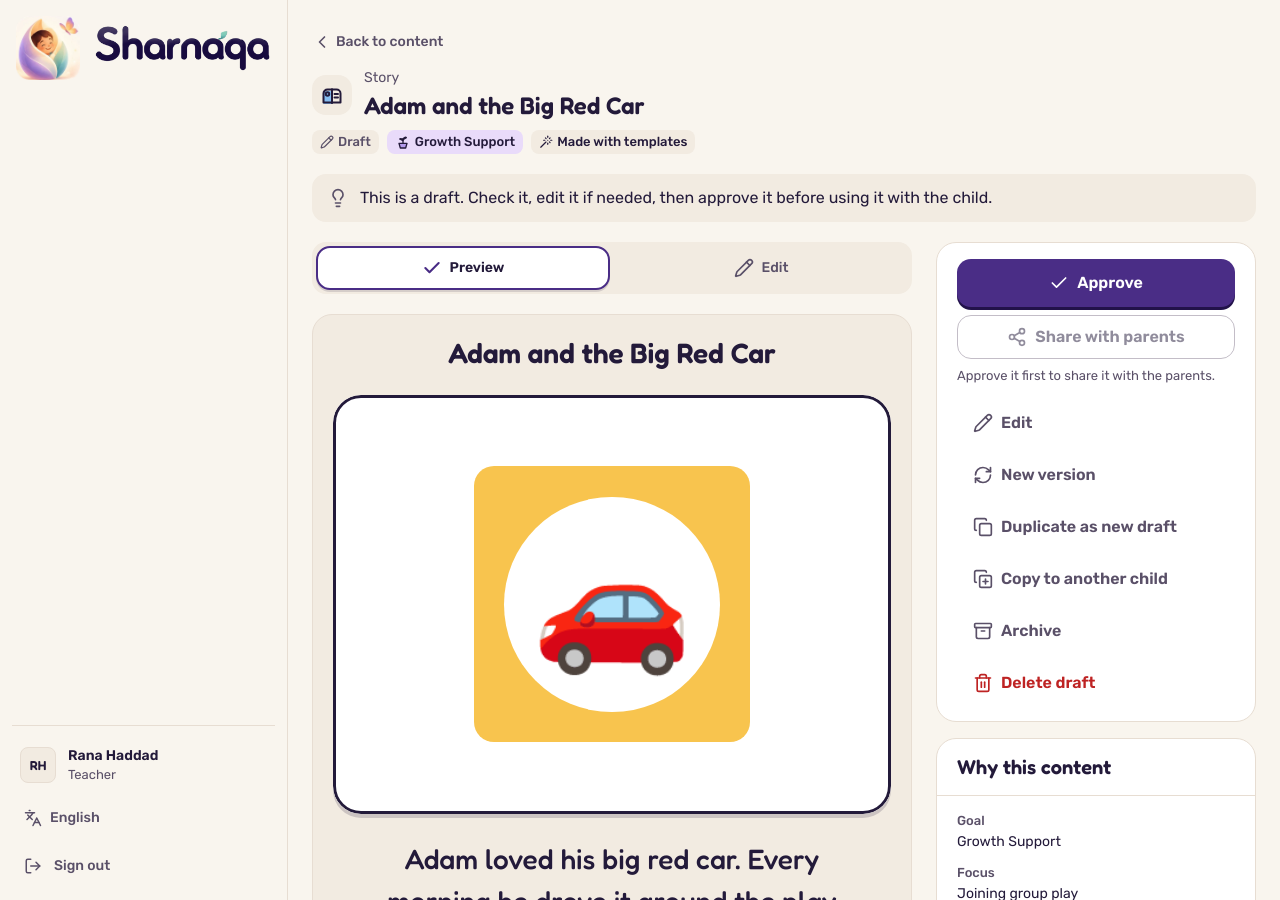
Test case: ContentReviewPage › shows wording problems from the server when saving an edit
Click the tab "Edit".
click(761, 268)  # box [614, 246, 908, 290]
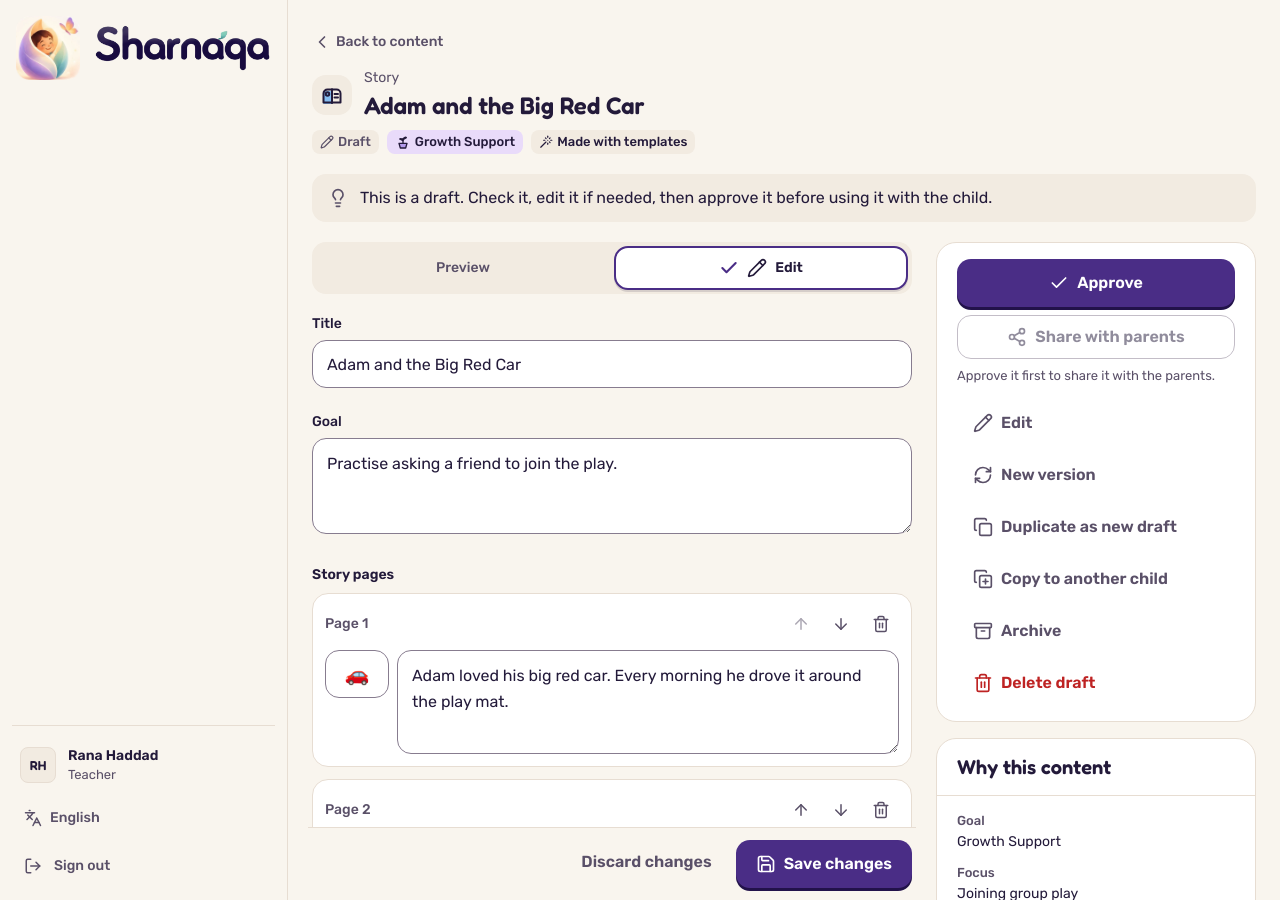
Replace the text in the field labelled "Title" with "A new title" at (612, 364), box [312, 340, 912, 388]
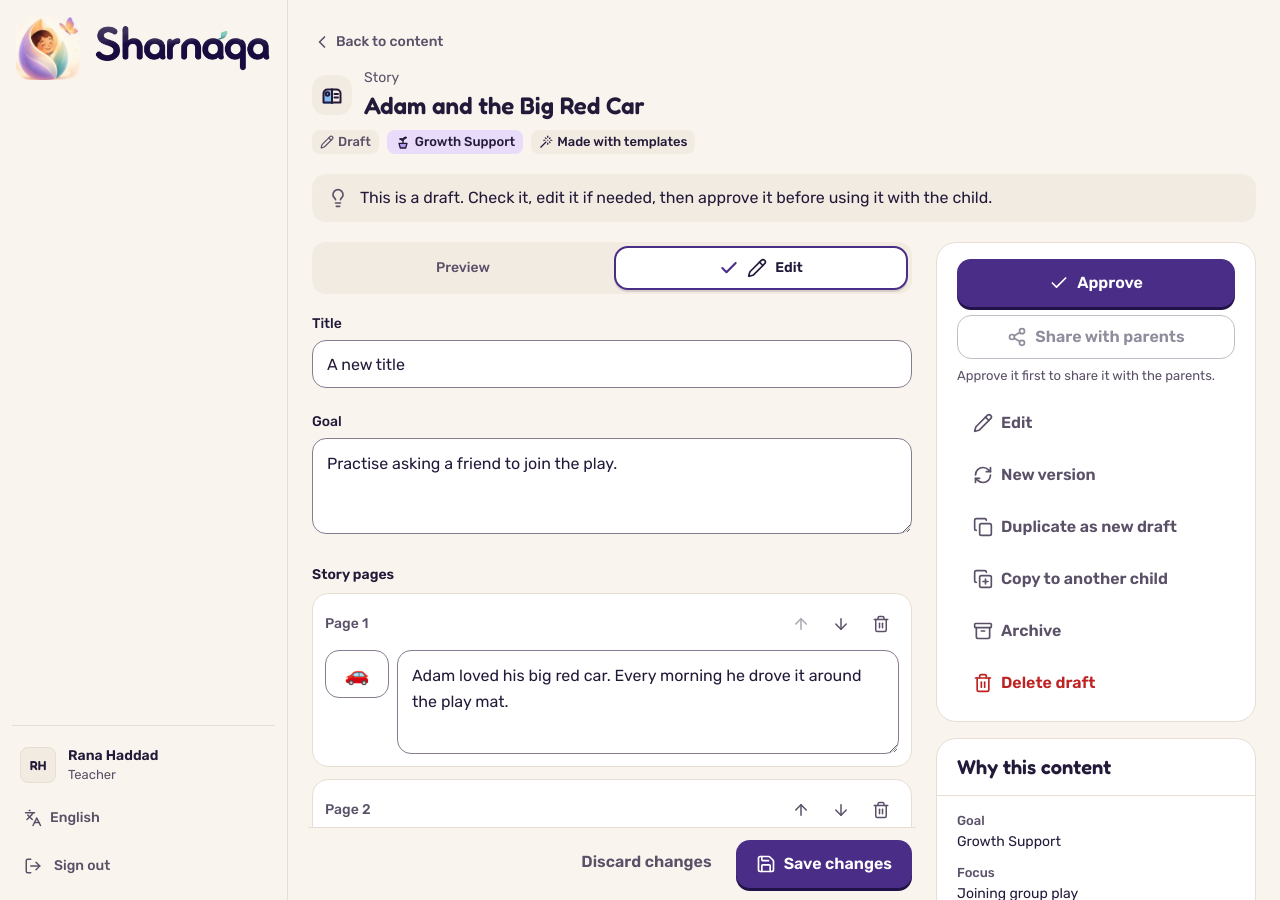
Click the button "Save changes".
click(824, 864)  # box [736, 840, 912, 888]
(page scrolled)
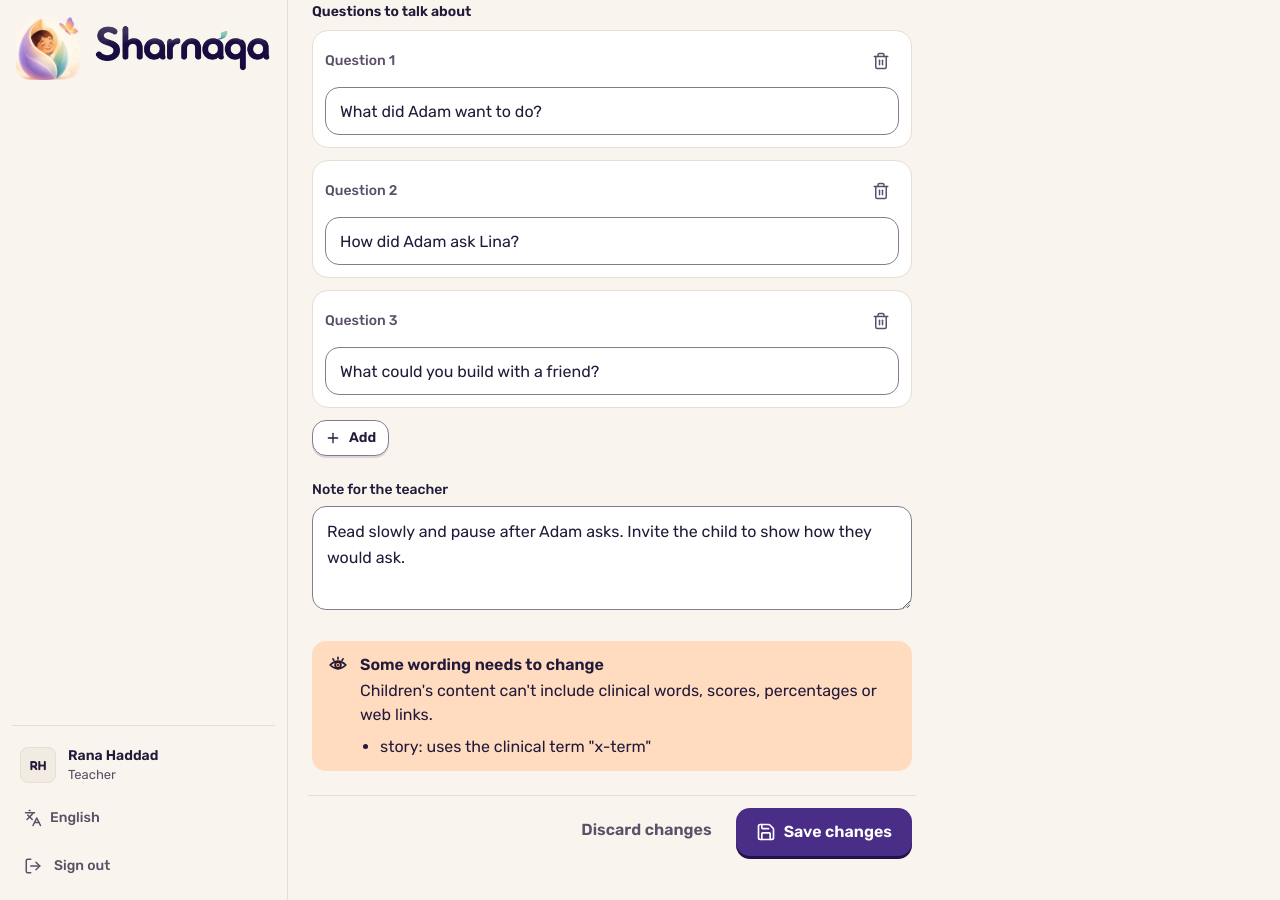
Now the text "Some wording needs to change" is shown, box [360, 655, 604, 674]
Now the list with test id "unsafe-issues" shows "x-term", box [380, 737, 651, 756]
